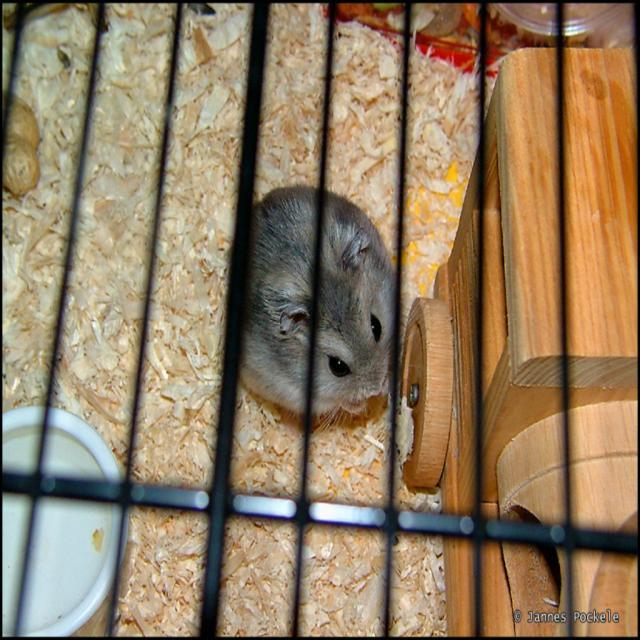rat: (236, 179, 403, 419)
